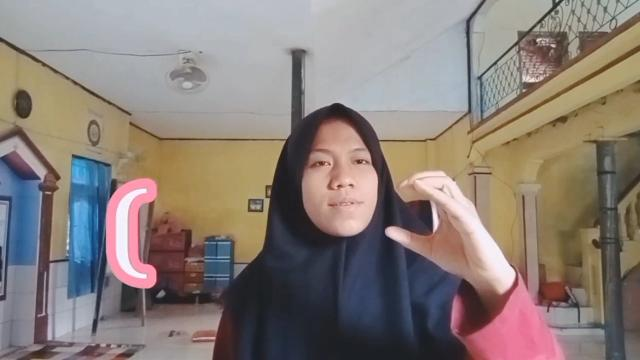C: (384, 169, 506, 287)
